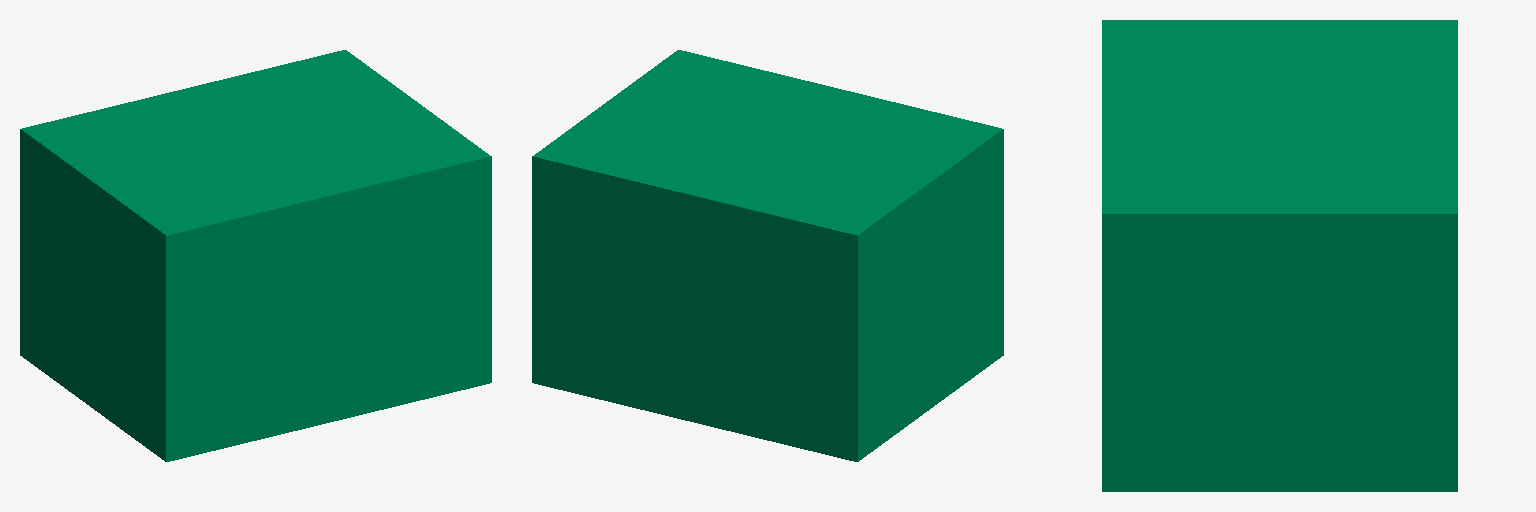
The robot description file, URDF, robot "random_box":
<?xml version='1.0' encoding='UTF-8'?>
<robot name="random_box">
  <link name="box">

    <inertial>
      <mass value="0.3"/>
      <origin xyz="0 0 0" rpy="0 0 0"/>
      <inertia ixx="0.1" ixy="0.1" ixz="0.1" iyy="0.1" iyz="0.1" izz="0.1"/>
    </inertial>

    <visual>
      <geometry>
        <box size="0.9 0.7 0.6"/>
      </geometry>
      <material name="color">
        <color rgba="0 0.6 0.4 1"/>
      </material>
    </visual>
    <collision>
      <geometry>
        <box size="0.9 0.7 0.6"/>
      </geometry>

      <surface>
        <friction>
          <ode>
            <mu>100000000.0</mu>
            <mu2>100000000.0</mu2>
          </ode>
        </friction>
        <contact>
          <ode>
            <min_depth>0.003</min_depth>
          </ode>
        </contact>
      </surface>

    </collision>

  </link>
</robot>

--- Facts derived from the render (not from the file) ---
The picture shows the robot from 3 angles, left to right: view 1: azimuth 30°, elevation 25°; view 2: azimuth 150°, elevation 25°; view 3: azimuth 270°, elevation 25°; orthographic projection.
Robot: random_box — 1 links, 0 joints (none); root link box; default pose: every joint at zero.
Links seen in each view (by area): view 1: box; view 2: box; view 3: box.
Link boxes in pixels (x1,y1,x2,y2): box: (20,50,491,461); box: (532,50,1003,461); box: (1102,20,1457,491).
Size in the robot's own frame: 0.9 by 0.7 by 0.6 metres.
Geometry: primitives only (box / cylinder / sphere), no mesh files.